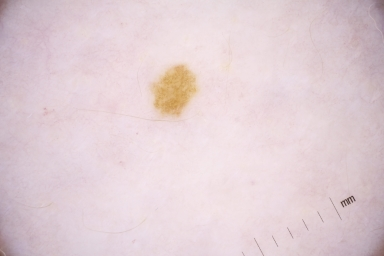melanoma: (152, 65, 194, 118)
